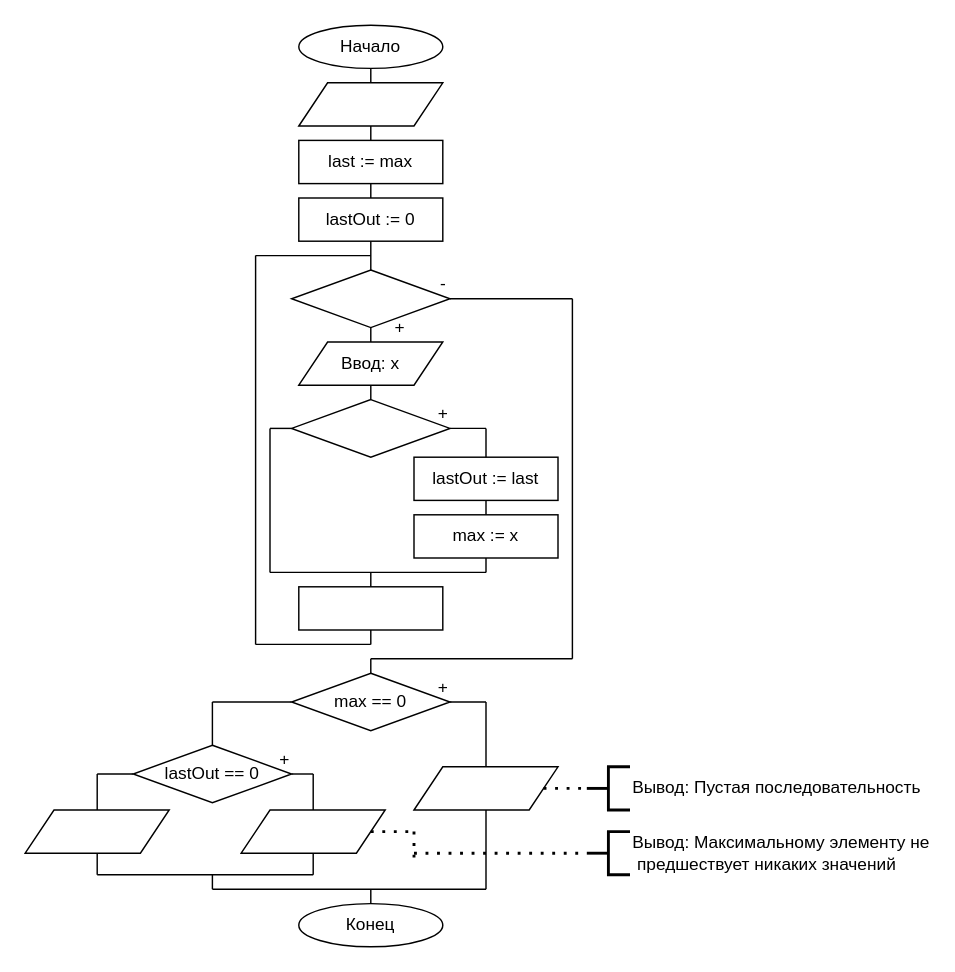
This 955x972 diagram has some shape labels left out. The box of each missing label's shape, as (x1, y1, x2, y2) in pixels:
last != 0: (290, 269, 450, 328)
last := x: (297, 585, 443, 630)
x > max: (290, 398, 450, 457)
Ввод: max: (297, 81, 443, 126)
Вывод: lastOut: (24, 809, 169, 853)
